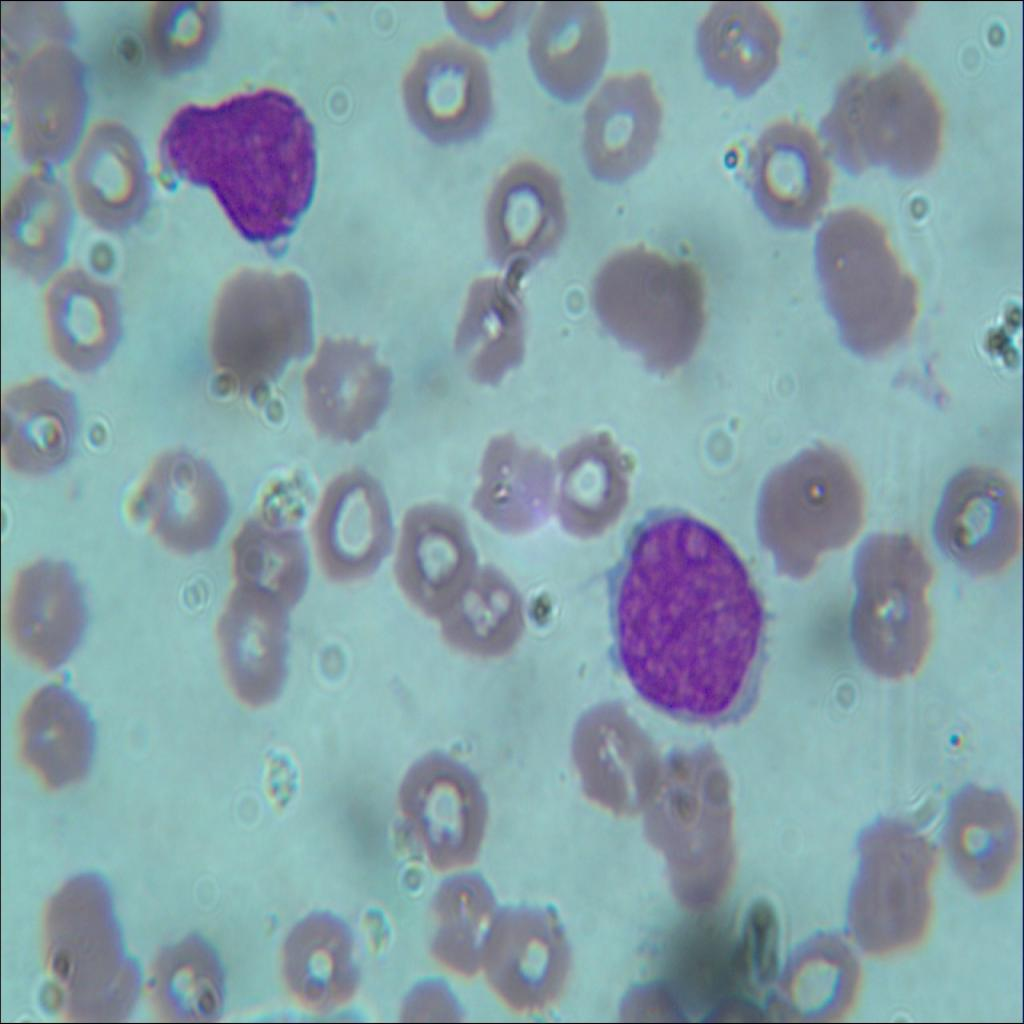Eritrosit: (196, 263, 316, 414), (386, 737, 493, 874), (836, 815, 938, 955), (921, 441, 1023, 574), (535, 418, 636, 548), (444, 262, 546, 388), (298, 314, 391, 452), (630, 735, 734, 858), (308, 442, 394, 588), (395, 29, 498, 147), (266, 894, 364, 1015), (730, 114, 826, 237), (479, 144, 568, 275), (478, 888, 569, 1014), (582, 64, 668, 197), (0, 551, 95, 671), (566, 698, 660, 818), (758, 914, 861, 1023), (216, 578, 298, 714), (470, 418, 560, 539), (806, 192, 889, 321), (219, 501, 309, 619), (934, 774, 1023, 892), (133, 448, 230, 554), (424, 861, 506, 984), (389, 495, 473, 614), (74, 114, 154, 237), (686, 0, 778, 106), (9, 44, 89, 165), (866, 62, 944, 183), (524, 0, 613, 103), (431, 557, 523, 655), (138, 924, 228, 1023), (662, 812, 743, 922), (38, 874, 116, 988), (49, 265, 123, 385), (15, 680, 91, 794), (0, 171, 71, 292), (636, 266, 708, 385), (0, 378, 86, 476), (796, 432, 866, 551), (593, 244, 669, 348), (834, 271, 922, 357), (758, 450, 816, 575), (135, 0, 229, 77), (62, 945, 144, 1023), (823, 74, 883, 168)
Limfoblast: (612, 506, 774, 725), (163, 77, 319, 260)
Platelet: (671, 225, 701, 264), (941, 721, 973, 757), (606, 185, 631, 228)
